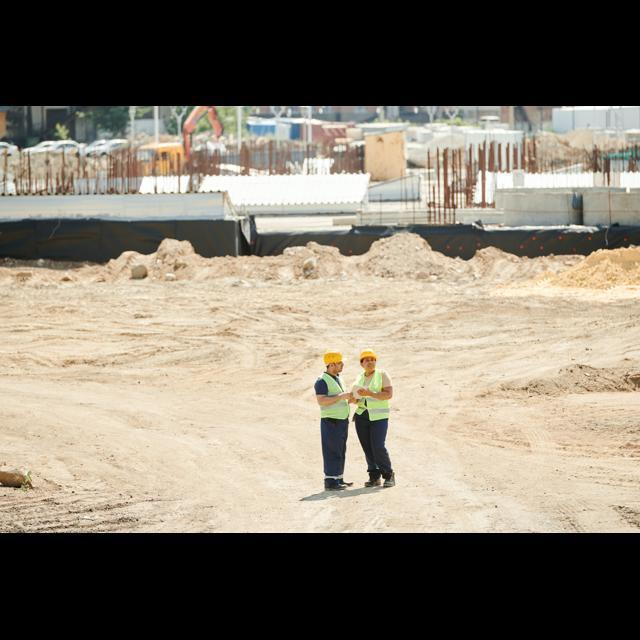Capacete: (324, 351, 341, 364), (359, 349, 376, 360)
Colete: (356, 397, 389, 420), (321, 400, 349, 418)
